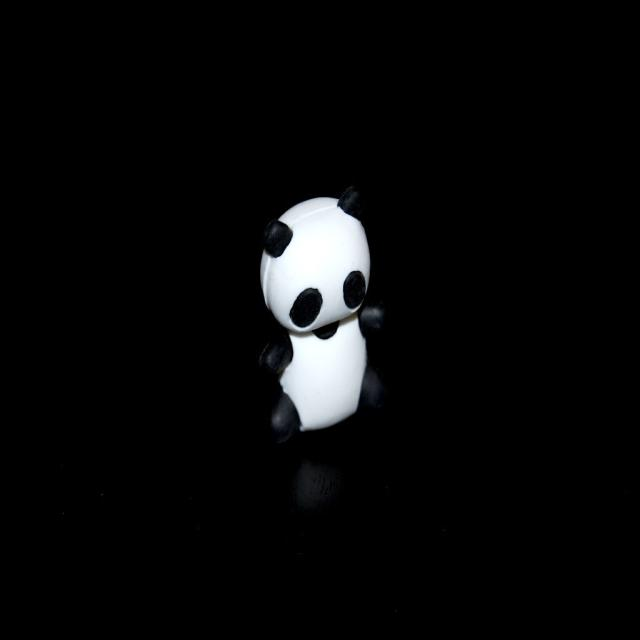panda: (242, 184, 385, 443)
